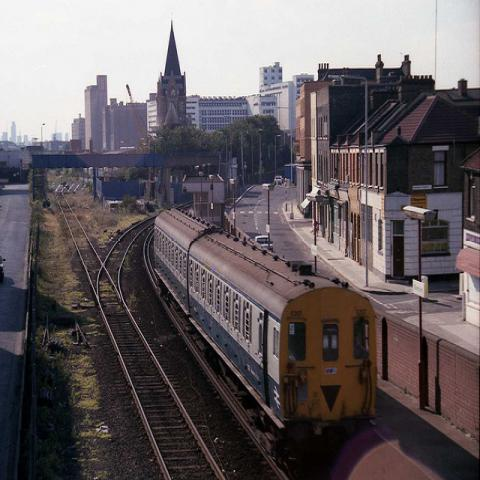car: (253, 237, 276, 250), (274, 176, 284, 184)
